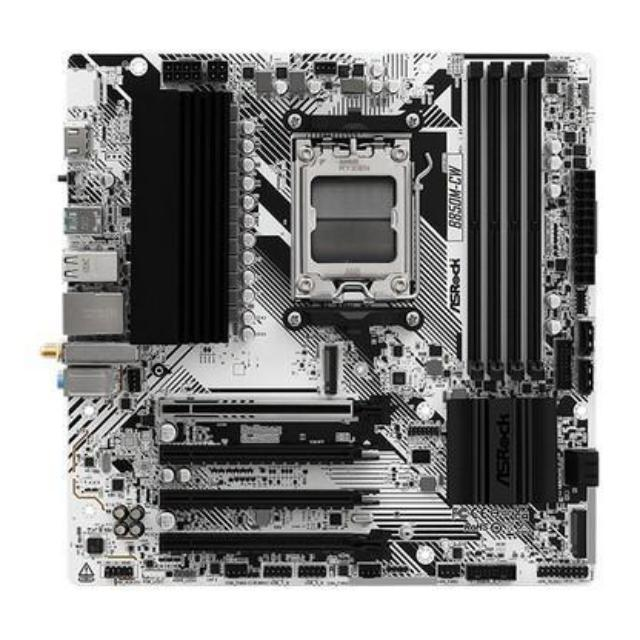Mainboard: (49, 45, 604, 612)
